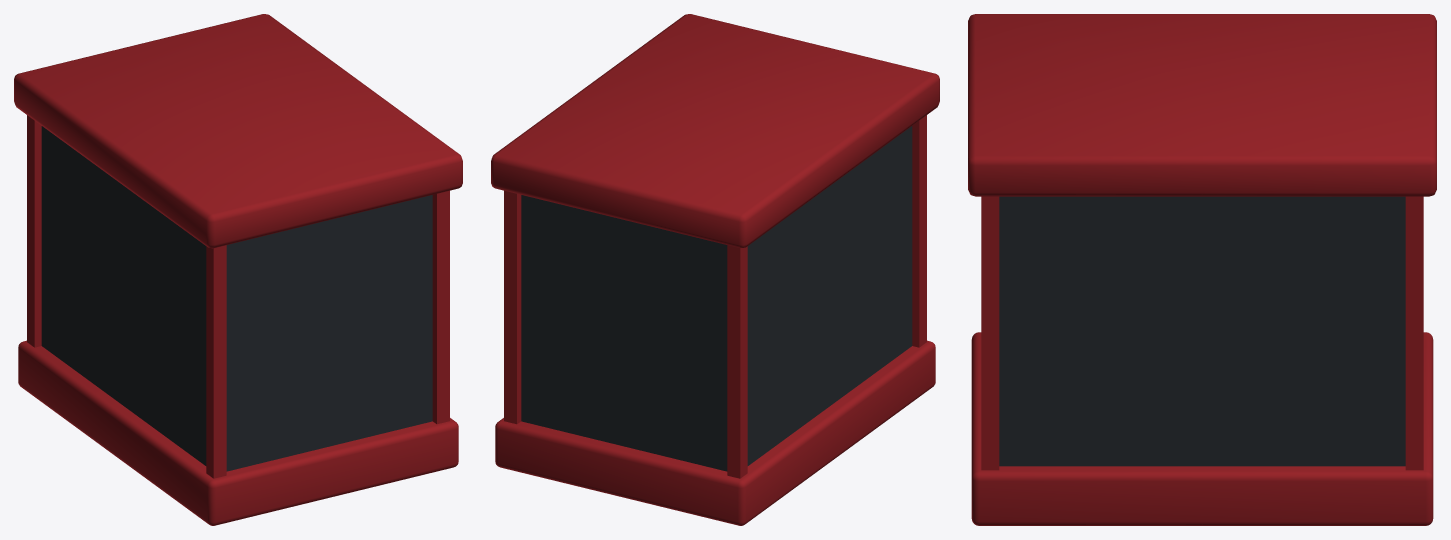
Rendered from popcorn_case.glb.
3 views of the same model, side by side, from view 1: azimuth 30°, elevation 25°; view 2: azimuth 150°, elevation 25°; view 3: azimuth 270°, elevation 25° (orthographic). The views are drawn at different scales.
Visible parts, largest first — view 1: Roof_LOD0, Glass_LOD0, Glass_LOD0.001, Base_LOD0, Post_LOD0, Post_LOD0.002, Post_LOD0.001; view 2: Roof_LOD0, Glass_LOD0.002, Glass_LOD0.001, Base_LOD0, Post_LOD0.001, Post_LOD0.003, Post_LOD0; view 3: Glass_LOD0.003, Roof_LOD0, Base_LOD0, Post_LOD0.002, Post_LOD0.003.
Boxes of the visible parts, box(x1,y1,x2,y2) form: Roof_LOD0: box(14, 14, 462, 248); Glass_LOD0: box(226, 195, 432, 471); Glass_LOD0.001: box(41, 126, 206, 465); Base_LOD0: box(18, 340, 458, 525); Post_LOD0: box(206, 245, 226, 478); Post_LOD0.002: box(432, 190, 449, 424); Post_LOD0.001: box(27, 115, 41, 347); Roof_LOD0: box(491, 14, 939, 248); Glass_LOD0.002: box(521, 195, 727, 471); Glass_LOD0.001: box(747, 126, 912, 465); Base_LOD0: box(495, 340, 935, 525); Post_LOD0.001: box(727, 245, 747, 478); Post_LOD0.003: box(504, 190, 521, 424); Post_LOD0: box(912, 115, 926, 347); Glass_LOD0.003: box(999, 196, 1405, 466); Roof_LOD0: box(968, 14, 1436, 196); Base_LOD0: box(971, 332, 1433, 525); Post_LOD0.002: box(981, 196, 999, 470); Post_LOD0.003: box(1405, 196, 1423, 470).
Bounding box in the file's own units: 0.47 × 0.55 × 0.63.
